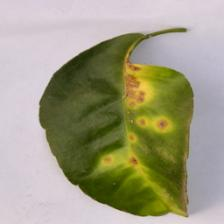canker: (100, 66, 184, 162)
